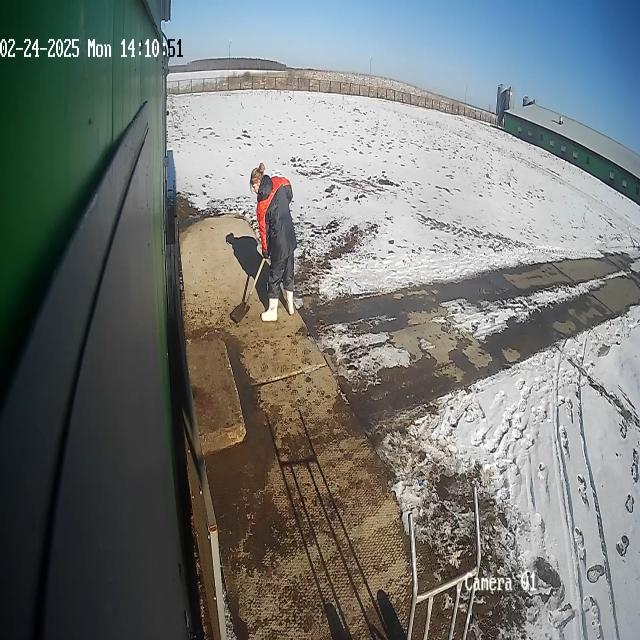Red uniform: (248, 161, 298, 324)
